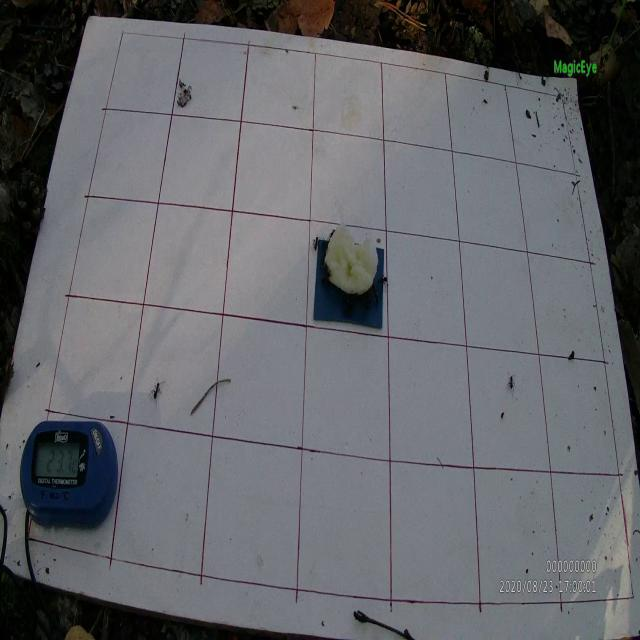Ant: (149, 376, 165, 407), (377, 271, 389, 293), (506, 372, 516, 396), (310, 234, 321, 254)
